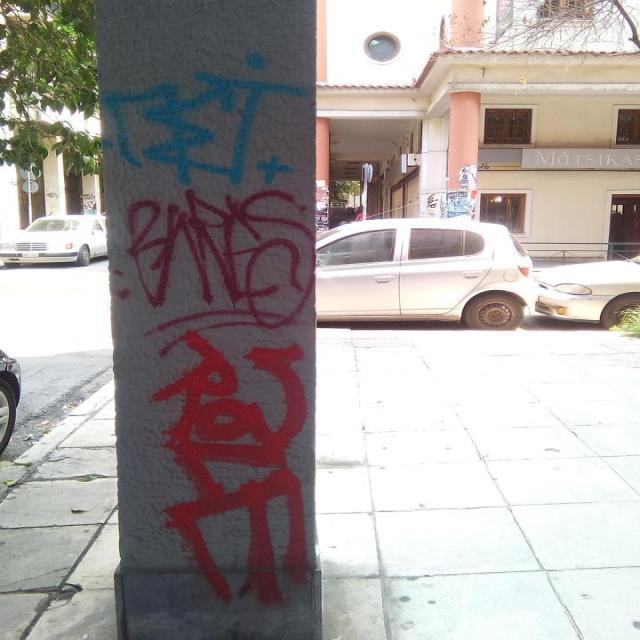nonspitting: (152, 329, 310, 604), (118, 190, 314, 354), (98, 54, 306, 188)
